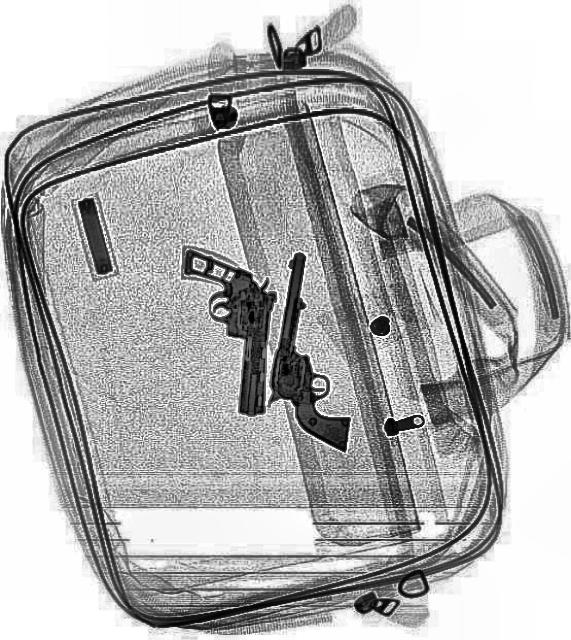Gun: (257, 250, 379, 450), (176, 246, 276, 418)
